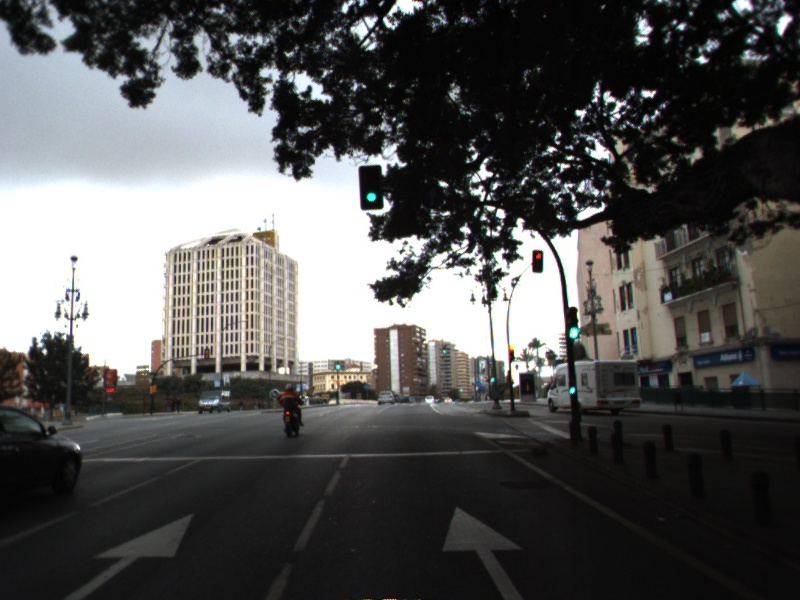STRAIGHT: (57, 508, 198, 600), (438, 503, 527, 600)
